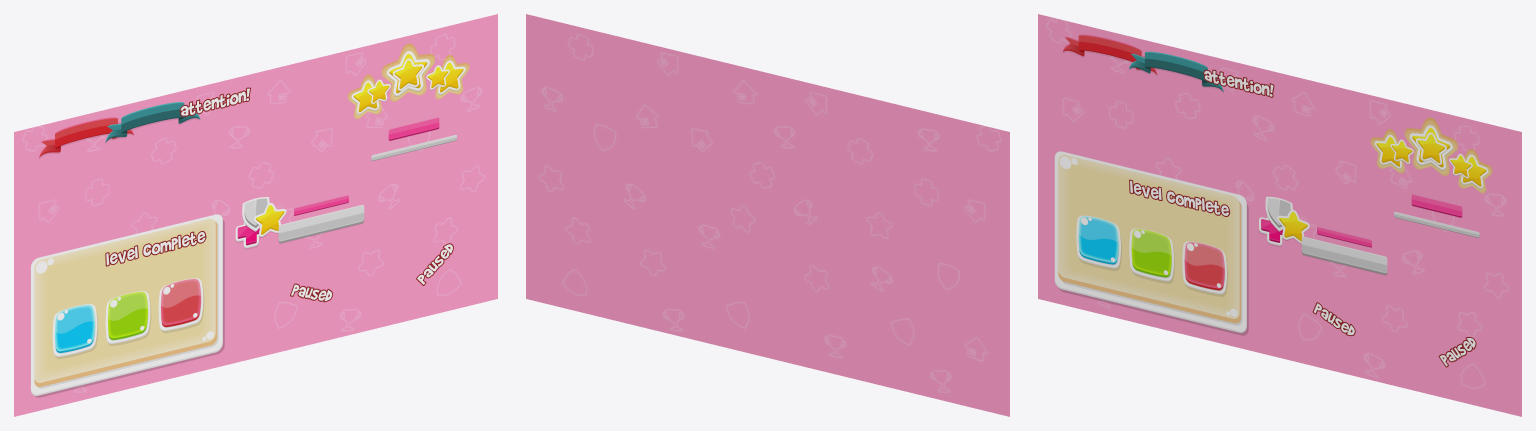
The picture shows the model from 3 angles, left to right: view 1: azimuth 30°, elevation 25°; view 2: azimuth 150°, elevation 25°; view 3: azimuth 330°, elevation 25°; orthographic projection.
Visible parts, largest first — view 1: bg, wnd_ui1, wnd_ui2_bt, lin1, clip_fg, clip_bg, jelem2, #pff:mask, jelem1, wnd_ui1.001, alpha_blink_test, ao_el1 (+7 smaller); view 2: bg; view 3: bg, wnd_ui1, wnd_ui2_bt, lin1, clip_fg, clip_bg, jelem2, #pff:mask, jelem1, wnd_ui1.001, alpha_blink_test, ao_el1 (+6 smaller).
Part boxes in pixels (bbox=[...]): bg: bbox=[14, 14, 497, 416]; wnd_ui1: bbox=[31, 214, 222, 396]; wnd_ui2_bt: bbox=[52, 278, 203, 356]; lin1: bbox=[278, 205, 364, 243]; clip_fg: bbox=[351, 51, 465, 114]; clip_bg: bbox=[347, 43, 469, 118]; jelem2: bbox=[105, 102, 200, 142]; #pff:mask: bbox=[367, 58, 449, 104]; jelem1: bbox=[39, 117, 133, 157]; wnd_ui1.001: bbox=[105, 231, 206, 266]; alpha_blink_test: bbox=[179, 87, 250, 116]; ao_el1: bbox=[254, 203, 286, 236]; bg: bbox=[526, 14, 1009, 416]; bg: bbox=[1038, 14, 1521, 416]; wnd_ui1: bbox=[1054, 151, 1246, 332]; wnd_ui2_bt: bbox=[1076, 215, 1227, 294]; lin1: bbox=[1301, 236, 1387, 275]; clip_fg: bbox=[1374, 125, 1488, 188]; clip_bg: bbox=[1370, 117, 1492, 193]; jelem2: bbox=[1129, 51, 1223, 92]; #pff:mask: bbox=[1390, 132, 1472, 178]; jelem1: bbox=[1062, 34, 1157, 75]; wnd_ui1.001: bbox=[1129, 179, 1230, 216]; alpha_blink_test: bbox=[1203, 69, 1274, 97]; ao_el1: bbox=[1277, 209, 1309, 243].
Size of the model in its own units: 19.2 by 10.8 by 0.0483.
Materials: 19 (19 with a texture image).
